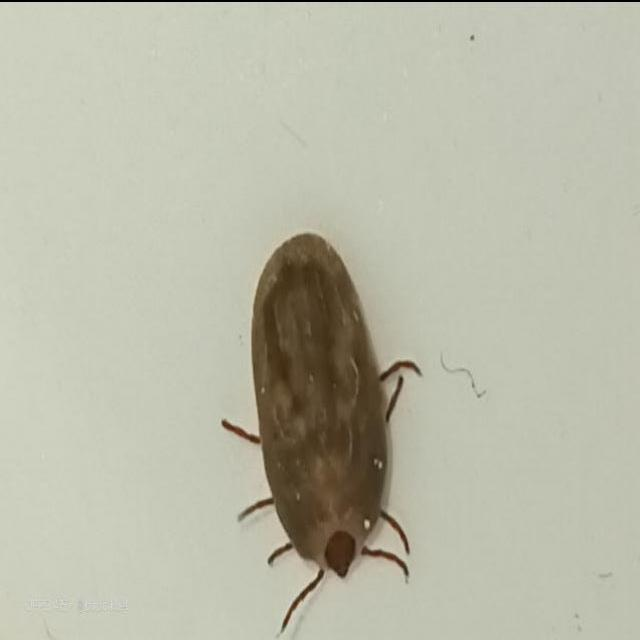Rhipicephalus Sanguineus-F-Fed: (223, 231, 420, 631)
